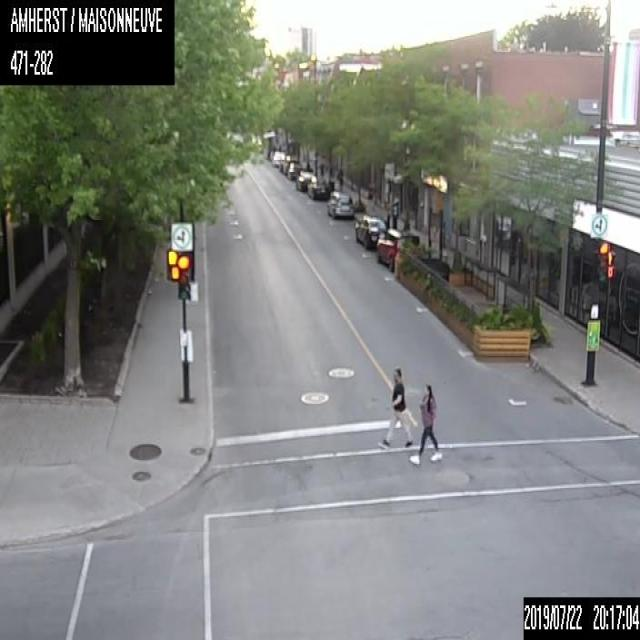pedestrian: (377, 368, 413, 447), (408, 382, 442, 462), (392, 199, 398, 229), (337, 168, 344, 188), (385, 212, 389, 229)
vehicle: (377, 227, 419, 272), (354, 212, 386, 248), (326, 189, 354, 219), (307, 178, 330, 200), (296, 169, 315, 191), (287, 161, 302, 178)
